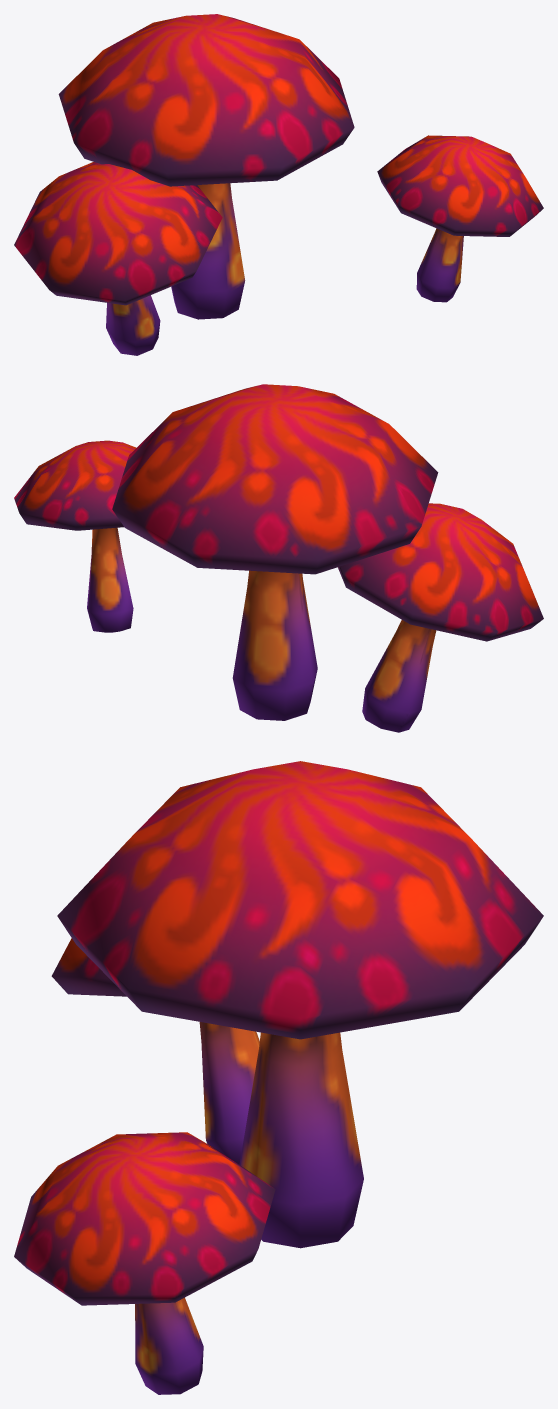
Rendered from Mushroom_01.FBX.
3 views of the same model, one above another, from view 1: azimuth 30°, elevation 25°; view 2: azimuth 150°, elevation 25°; view 3: azimuth 270°, elevation 25° (orthographic). The views are drawn at different scales.
Visible parts, largest first — view 1: Mushroom_01; view 2: Mushroom_01; view 3: Mushroom_01.
Part boxes in pixels (<box>): Mushroom_01: <box>14,14,543,355</box>; Mushroom_01: <box>14,384,543,732</box>; Mushroom_01: <box>14,761,543,1394</box>.
Bounding box in the file's own units: 76.78 × 44.24 × 46.48.
